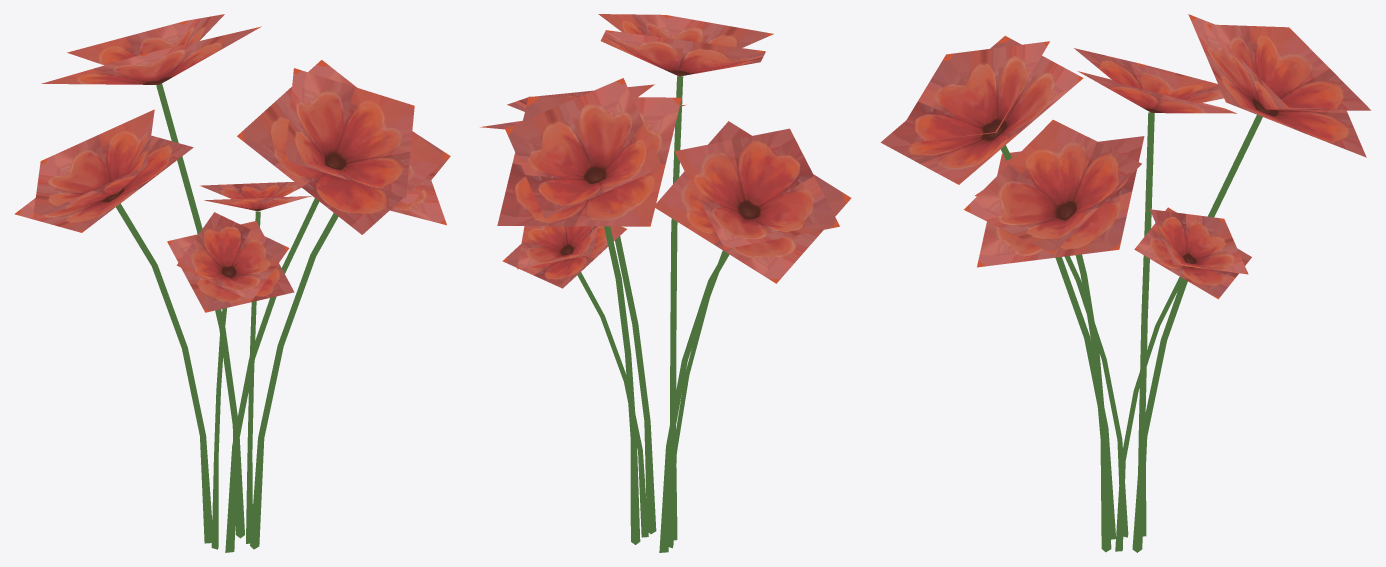
File: SM_Flower_01_02.fbx
The picture shows the model from 3 angles, left to right: view 1: azimuth 30°, elevation 25°; view 2: azimuth 150°, elevation 25°; view 3: azimuth 270°, elevation 25°; orthographic projection. The views are drawn at different scales.
Parts seen in each view (by area): view 1: SM_Flower_01_02_LOD0; view 2: SM_Flower_01_02_LOD0; view 3: SM_Flower_01_02_LOD0.
Part boxes in pixels (x1,y1,x2,y2): SM_Flower_01_02_LOD0: [14, 14, 450, 552]; SM_Flower_01_02_LOD0: [480, 14, 851, 552]; SM_Flower_01_02_LOD0: [880, 14, 1370, 552].
Size of what is drawn, in the model's own units: 57.25 by 72.23 by 62.32.
